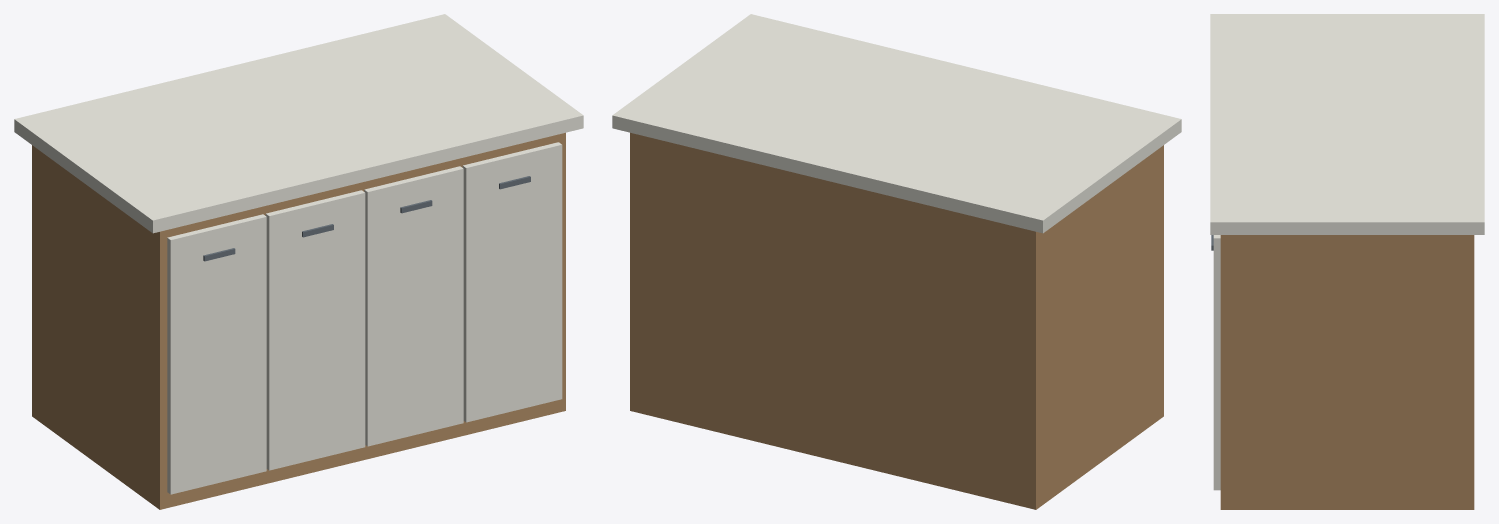
3 views of the same model, side by side, from view 1: azimuth 30°, elevation 25°; view 2: azimuth 150°, elevation 25°; view 3: azimuth 270°, elevation 25° (orthographic).
Parts seen in each view (by area): view 1: Worktop, CabinetBody, Door_0, Door_1, Door_3, Door_2; view 2: CabinetBody, Worktop; view 3: CabinetBody, Worktop, Door_3.
Part boxes in pixels (x1=…): Worktop: x1=14, y1=14, x2=583, y2=233; CabinetBody: x1=32, y1=132, x2=565, y2=509; Door_0: x1=167, y1=214, x2=266, y2=494; Door_1: x1=265, y1=190, x2=365, y2=470; Door_3: x1=462, y1=142, x2=562, y2=422; Door_2: x1=364, y1=166, x2=463, y2=446; CabinetBody: x1=630, y1=132, x2=1163, y2=509; Worktop: x1=612, y1=14, x2=1181, y2=233; CabinetBody: x1=1220, y1=235, x2=1474, y2=509; Worktop: x1=1210, y1=14, x2=1484, y2=234; Door_3: x1=1213, y1=235, x2=1220, y2=490.
Size of the model in its own units: 1.4 by 0.92 by 0.78.
